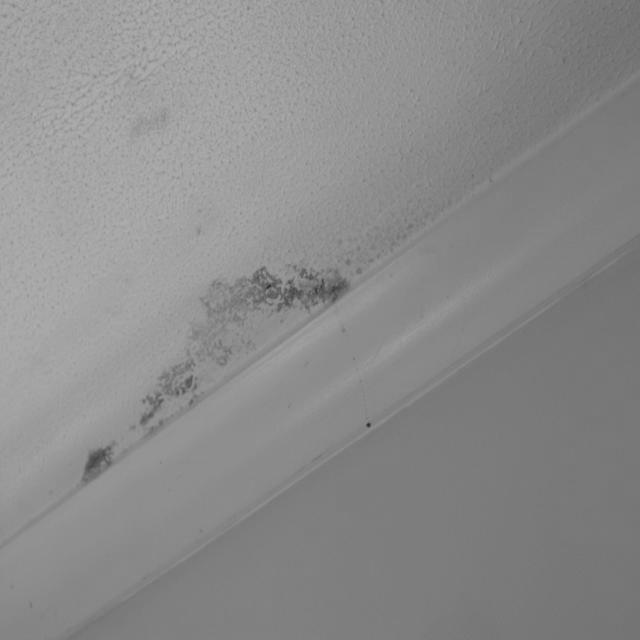stain marks: (74, 170, 352, 500), (337, 164, 465, 278), (112, 100, 186, 173), (35, 473, 66, 508)
